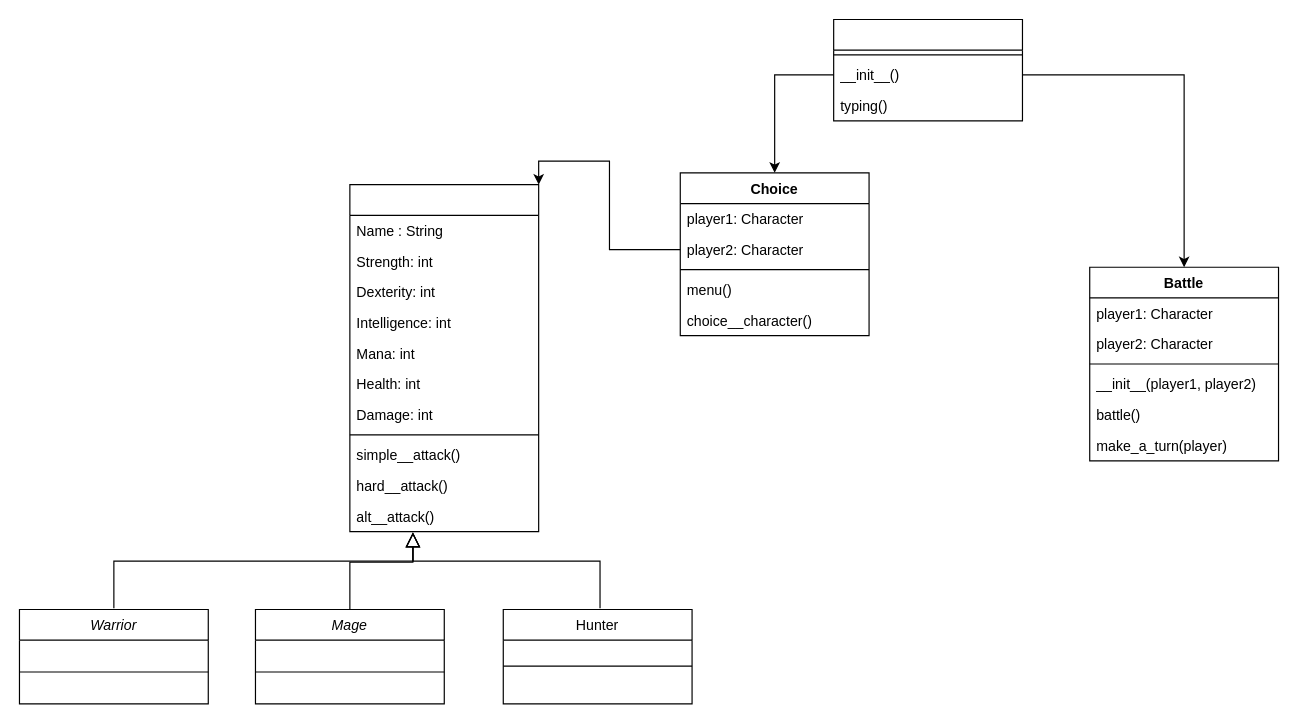
This 1298x723 diagram has some shape labels left out. The box of each missing label's shape, as (x1, y1, x2, y2) in pixels:
Character: (349, 183, 539, 532)
main: (832, 18, 1022, 121)
